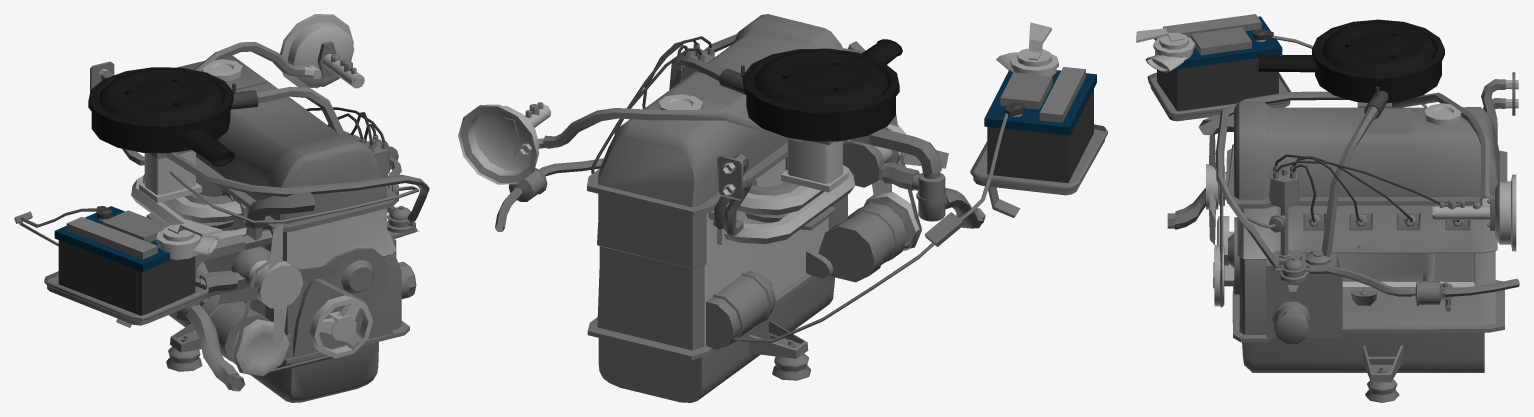
File: Lada2101_engineblock.fbx
3 views of the same model, side by side, from view 1: azimuth 30°, elevation 25°; view 2: azimuth 150°, elevation 25°; view 3: azimuth 270°, elevation 25° (orthographic). The views are drawn at different scales.
Visible parts, largest first — view 1: Lada2101_engineblock; view 2: Lada2101_engineblock; view 3: Lada2101_engineblock.
Boxes of the visible parts, <box> form: Lada2101_engineblock: <box>14,14,429,402</box>; Lada2101_engineblock: <box>458,14,1107,402</box>; Lada2101_engineblock: <box>1136,14,1519,402</box>.
Bounding box in the file's own units: 148 × 92.62 × 118.
